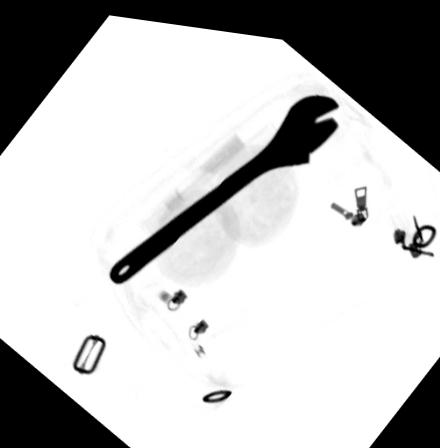Wrench: (108, 81, 342, 281)
